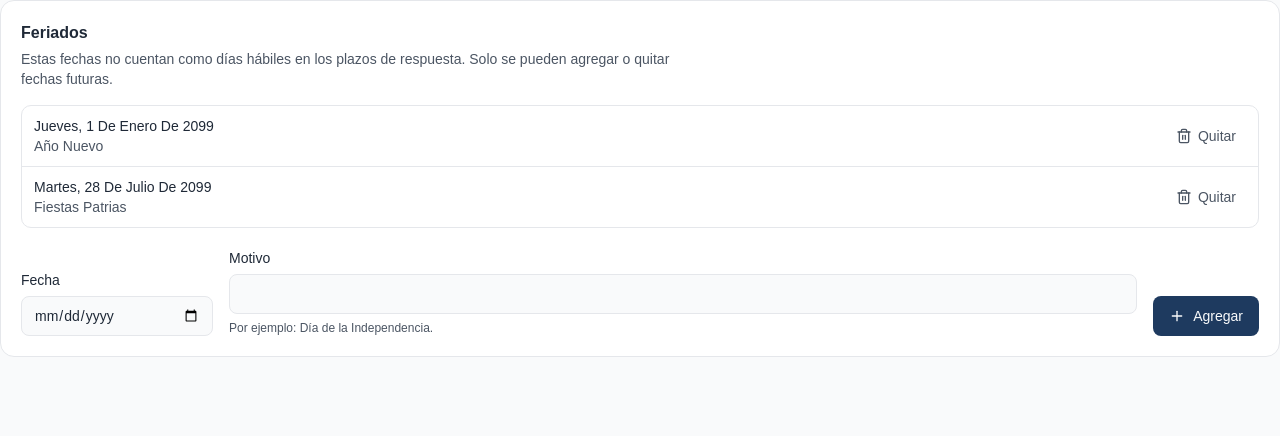
Feriados dentro de Parámetros (D-18) › no deja repetir una fecha ni agregar sin motivo
The image size is (1280, 436).
Expected: the text "Año Nuevo" is shown, [34,138,103,154]
Type "2099-07-28" into the date field labelled "Fecha" at (117, 316), box [21,296,213,336]
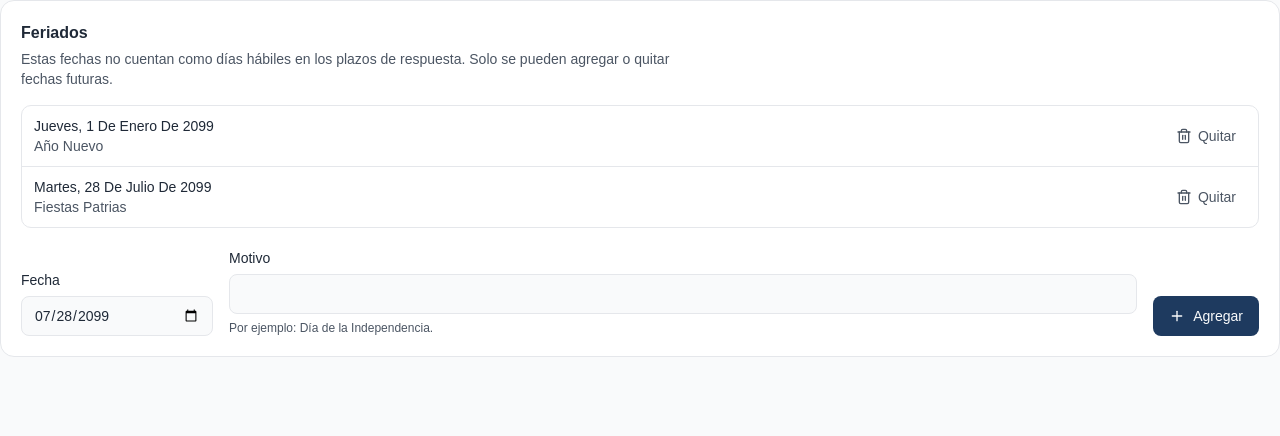
Type "Otra vez" into the field labelled "Motivo" at (683, 294), box [229,274,1137,314]
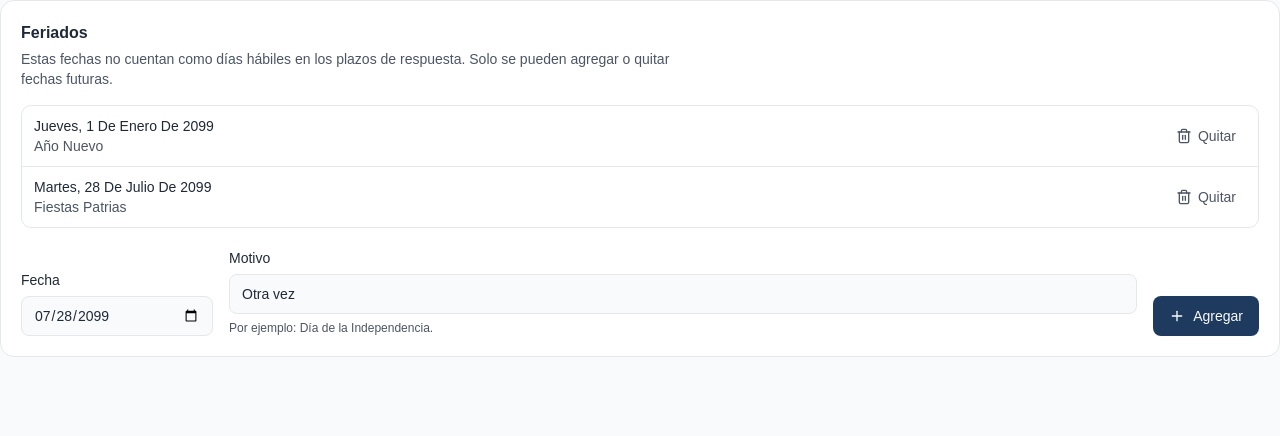
Click the button "Agregar" at (1206, 316), box [1153,296,1259,336]
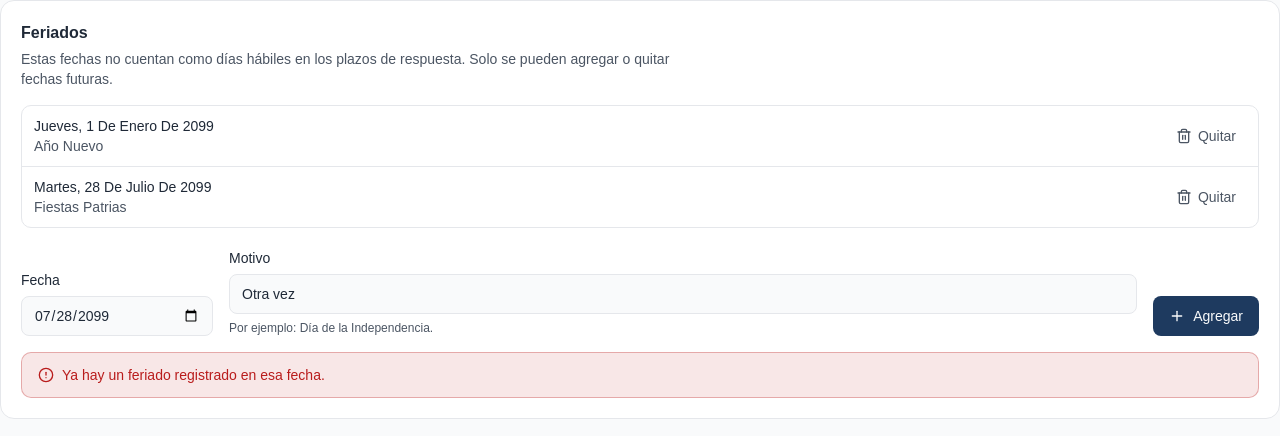
Now the text "Ya hay un feriado registrado en esa fecha." is shown, box [62,365,325,385]
